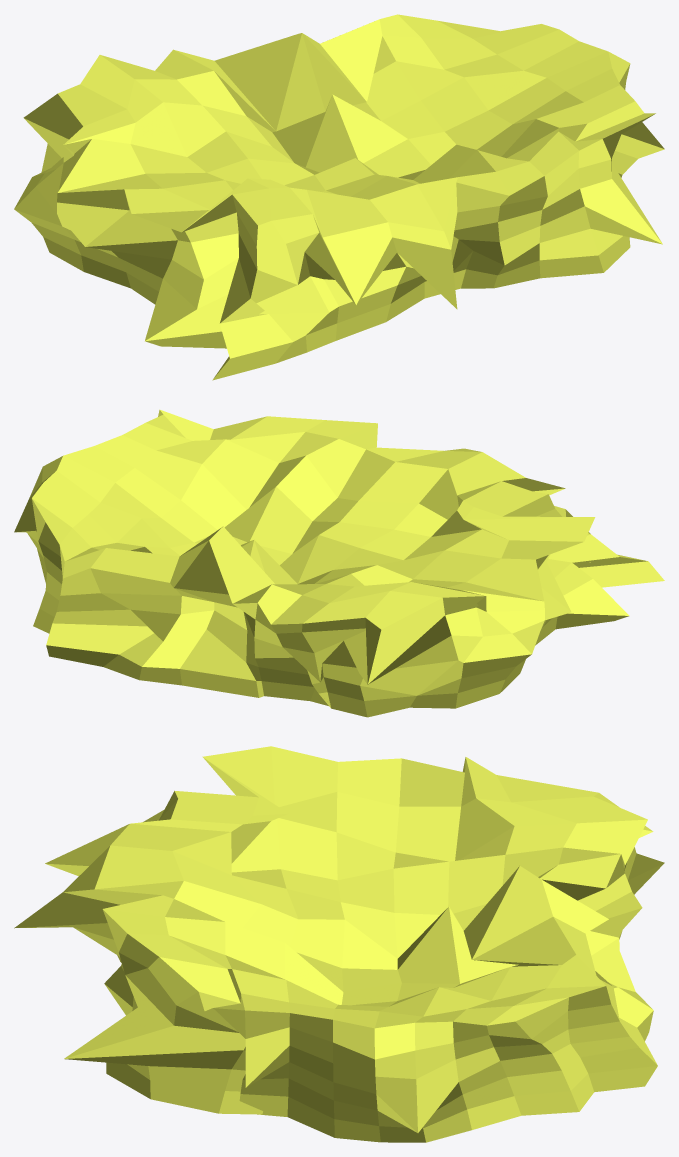
The model's file is Hay_lose.fbx.
3 renders of one model, top to bottom at view 1: azimuth 30°, elevation 25°; view 2: azimuth 150°, elevation 25°; view 3: azimuth 270°, elevation 25°, orthographic. The views are drawn at different scales.
Visible parts, largest first — view 1: Hay_Lose; view 2: Hay_Lose; view 3: Hay_Lose.
Part boxes in pixels (x1=…): Hay_Lose: x1=14, y1=14, x2=664, y2=380; Hay_Lose: x1=14, y1=409, x2=664, y2=717; Hay_Lose: x1=14, y1=746, x2=664, y2=1142.
Bounding box in the file's own units: 132 × 29.79 × 114.
1 material, 1 textured.
